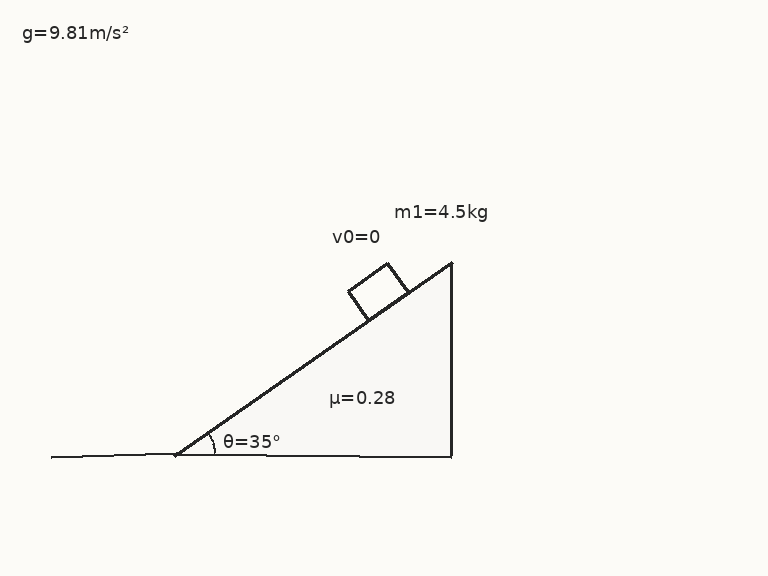block: (346, 261, 410, 322)
ramp: (173, 260, 453, 457)
